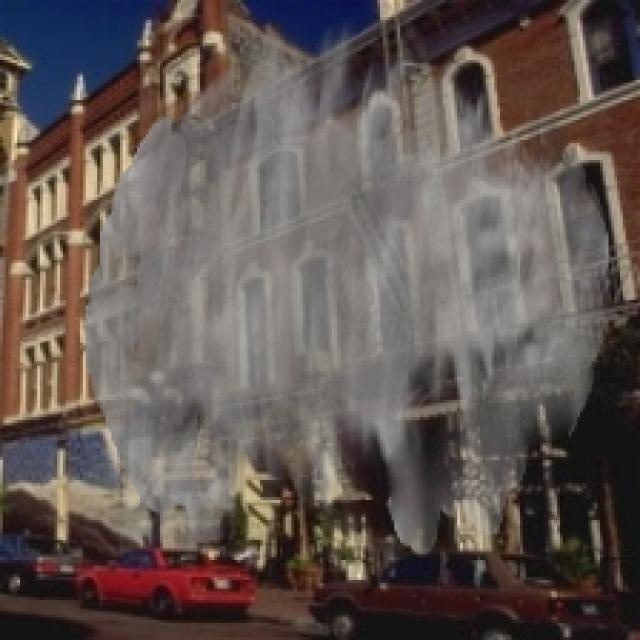smoke: (86, 17, 611, 557)
